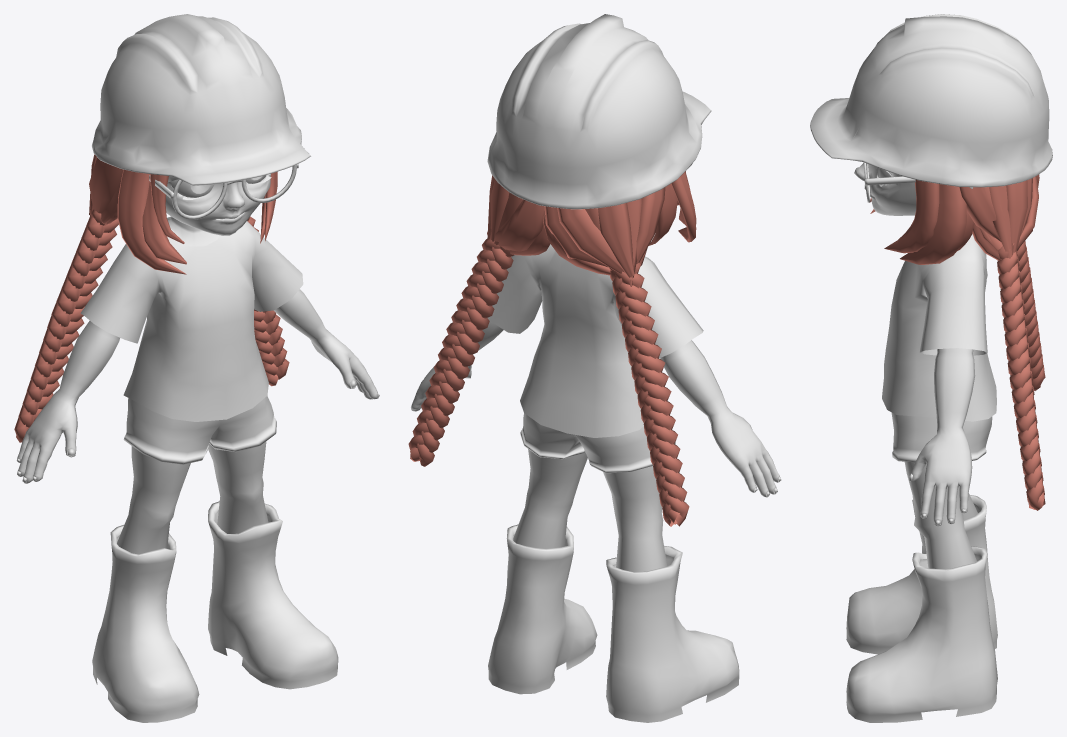
The model's file is Bibiane_Dummy_2.fbx.
3 views of the same model, side by side, from view 1: azimuth 30°, elevation 25°; view 2: azimuth 150°, elevation 25°; view 3: azimuth 270°, elevation 25° (orthographic). The views are drawn at different scales.
Parts seen in each view (by area): view 1: HardHat, Boots, Shirts, Body, BraidMesh.001, Hair_Side.001, Pants, Glasses; view 2: HardHat, Boots, Shirts, Body, BraidMesh.001, Hair_Back.001, Hair_Side.001, Pants, Hair_Inside.001; view 3: HardHat, Boots, Shirts, Body, Hair_Side.001, BraidMesh.001, Pants, Hair_Back.001, Glasses.
Boxes of the visible parts, x1=… form: HardHat: x1=92, y1=14, x2=310, y2=185; Boots: x1=92, y1=501, x2=338, y2=722; Shirts: x1=80, y1=216, x2=303, y2=421; Body: x1=16, y1=174, x2=379, y2=554; BraidMesh.001: x1=14, y1=209, x2=289, y2=442; Hair_Side.001: x1=89, y1=157, x2=277, y2=274; Pants: x1=123, y1=396, x2=276, y2=464; Glasses: x1=149, y1=164, x2=298, y2=219; HardHat: x1=487, y1=14, x2=711, y2=209; Boots: x1=488, y1=524, x2=739, y2=722; Shirts: x1=488, y1=244, x2=703, y2=437; Body: x1=411, y1=318, x2=781, y2=572; BraidMesh.001: x1=408, y1=230, x2=689, y2=526; Hair_Back.001: x1=490, y1=179, x2=637, y2=277; Hair_Side.001: x1=487, y1=171, x2=696, y2=286; Pants: x1=520, y1=413, x2=675, y2=473; Hair_Inside.001: x1=640, y1=183, x2=677, y2=266; HardHat: x1=810, y1=14, x2=1052, y2=187; Boots: x1=846, y1=495, x2=997, y2=722; Shirts: x1=882, y1=236, x2=996, y2=421; Body: x1=854, y1=163, x2=977, y2=568; Hair_Side.001: x1=870, y1=180, x2=1017, y2=264; BraidMesh.001: x1=997, y1=241, x2=1045, y2=510; Pants: x1=891, y1=412, x2=992, y2=462; Hair_Back.001: x1=1006, y1=174, x2=1039, y2=252; Glasses: x1=863, y1=162, x2=915, y2=202.
Size of the model in its own units: 59.2 by 103 by 34.85.
